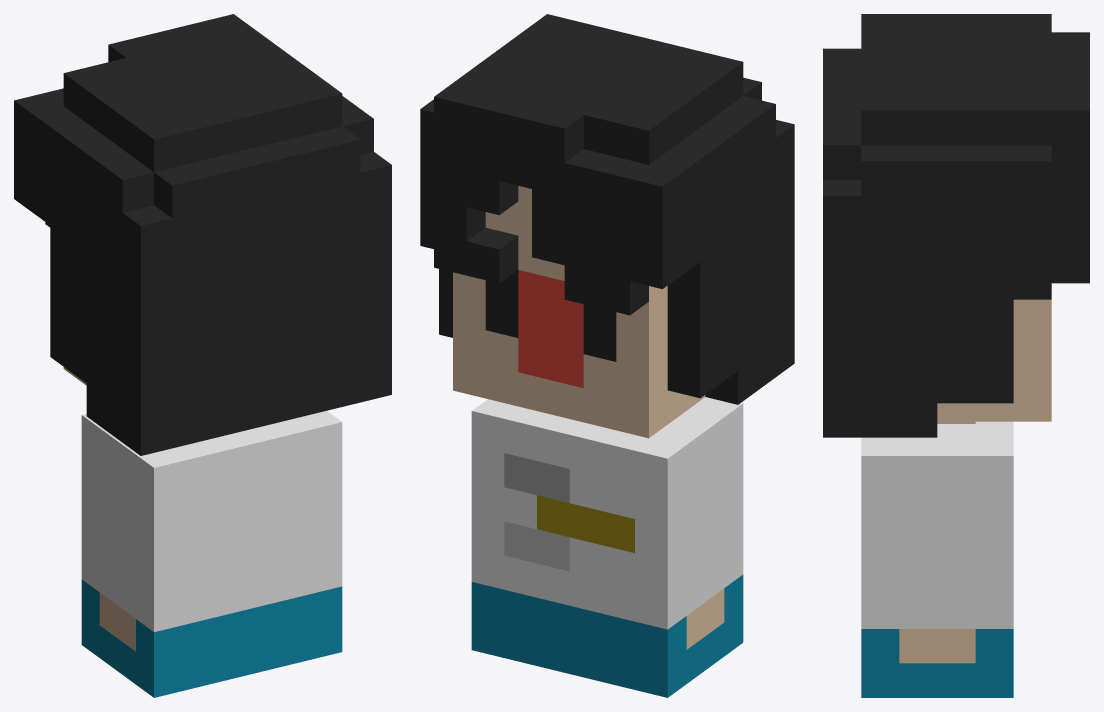
The model's file is Character-16-body.obj.
The picture shows the model from 3 angles, left to right: view 1: azimuth 30°, elevation 25°; view 2: azimuth 150°, elevation 25°; view 3: azimuth 270°, elevation 25°; orthographic projection. The views are drawn at different scales.
Visible parts, largest first — view 1: body; view 2: body; view 3: body.
Boxes of the visible parts, <box> form: body: <box>14,14,391,697</box>; body: <box>420,14,794,697</box>; body: <box>823,14,1089,697</box>.
Bounding box in the file's own units: 8 × 17 × 7.
1 material, 1 textured.
